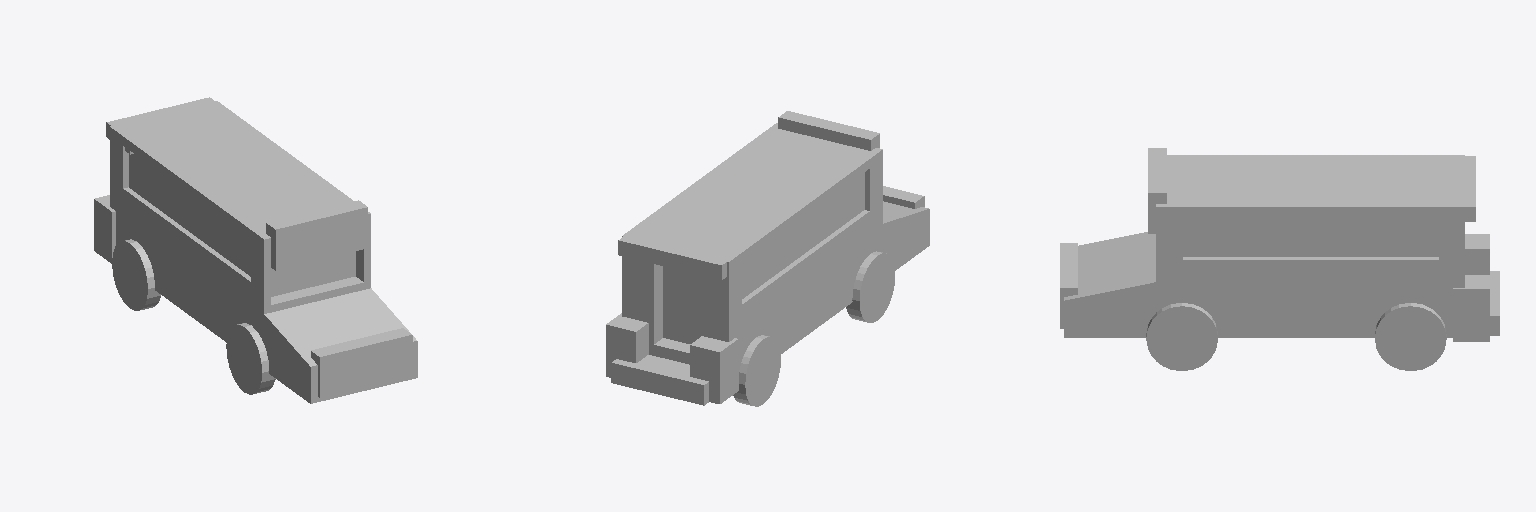
File: jeepney.obj
The picture shows the model from 3 angles: view 1: azimuth 30°, elevation 25°; view 2: azimuth 150°, elevation 25°; view 3: azimuth 270°, elevation 25°; orthographic projection.
Parts seen in each view (by area): view 1: Union1, Part3, Part5, Part12, Part2, Part7, Part4, Part9, Part11; view 2: Union1, Part11, Part8, Part9, Part2, Part7, Part5, Part10, Part4, Part3, Part12; view 3: Union1, Part3, Part6, Part1, Part4, Part10, Part5, Part12, Part11, Part9, Part8.
Part boxes in pixels (left/top/right/bottom): Union1: left=110, top=101, right=370, bottom=342; Part3: left=264, top=288, right=416, bottom=366; Part5: left=266, top=200, right=367, bottom=270; Part12: left=311, top=328, right=412, bottom=397; Part2: left=226, top=323, right=275, bottom=394; Part7: left=112, top=239, right=160, bottom=310; Part4: left=264, top=333, right=417, bottom=403; Part9: left=94, top=195, right=115, bottom=263; Part11: left=106, top=97, right=231, bottom=154; Union1: left=622, top=123, right=882, bottom=369; Part11: left=618, top=223, right=745, bottom=279; Part8: left=611, top=355, right=708, bottom=405; Part9: left=690, top=336, right=738, bottom=403; Part2: left=846, top=251, right=894, bottom=322; Part7: left=733, top=335, right=780, bottom=406; Part5: left=778, top=111, right=879, bottom=150; Part10: left=606, top=313, right=648, bottom=377; Part4: left=883, top=209, right=929, bottom=270; Part3: left=883, top=201, right=928, bottom=241; Part12: left=883, top=186, right=924, bottom=208; Union1: left=1156, top=155, right=1464, bottom=337; Part3: left=1064, top=232, right=1155, bottom=300; Part6: left=1146, top=303, right=1217, bottom=370; Part1: left=1375, top=303, right=1446, bottom=370; Part4: left=1064, top=301, right=1155, bottom=337; Part10: left=1453, top=275, right=1489, bottom=341; Part5: left=1148, top=148, right=1166, bottom=233; Part12: left=1060, top=243, right=1077, bottom=328; Part11: left=1428, top=156, right=1475, bottom=221; Part9: left=1465, top=234, right=1489, bottom=274; Part8: left=1490, top=271, right=1499, bottom=335.
Bounding box in the file's own units: 6.8 × 9.2 × 21.4.